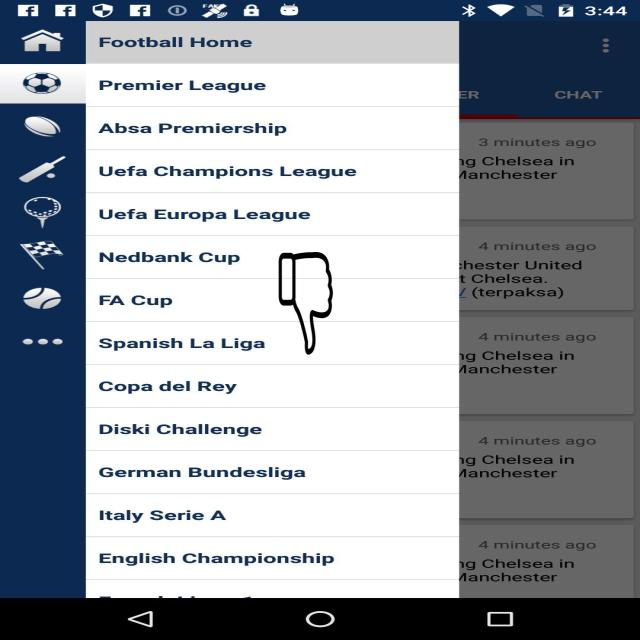obstruction: (278, 252, 334, 355)
